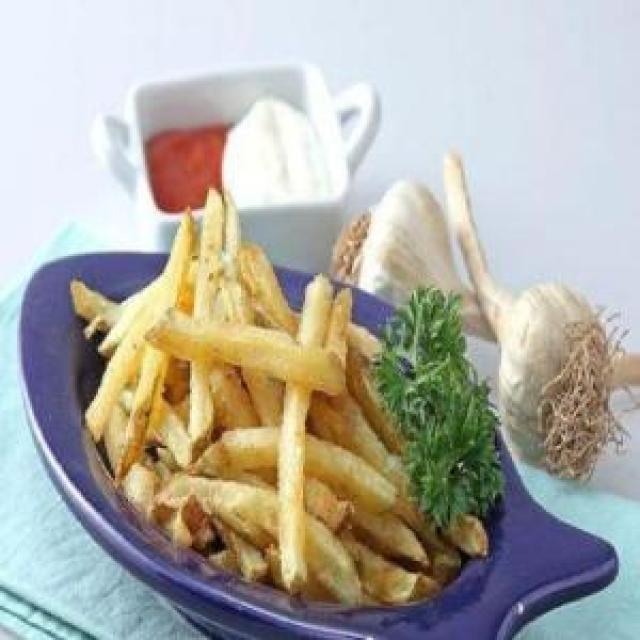French Fries: (67, 180, 492, 614)
